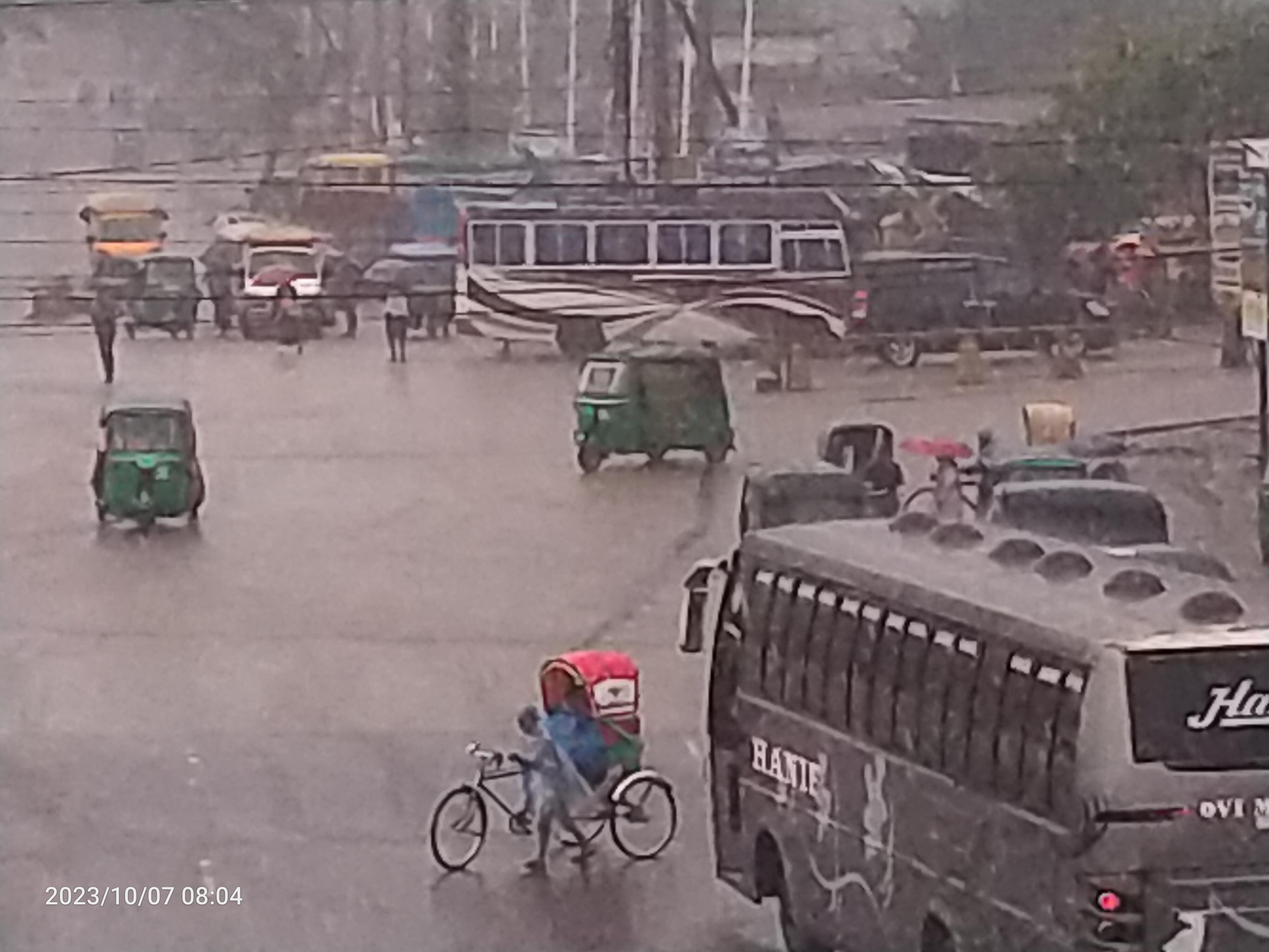Bus: (657, 491, 1269, 949), (438, 178, 882, 374)
Car: (385, 631, 734, 894), (240, 232, 345, 355)
Truck: (65, 182, 198, 294)
